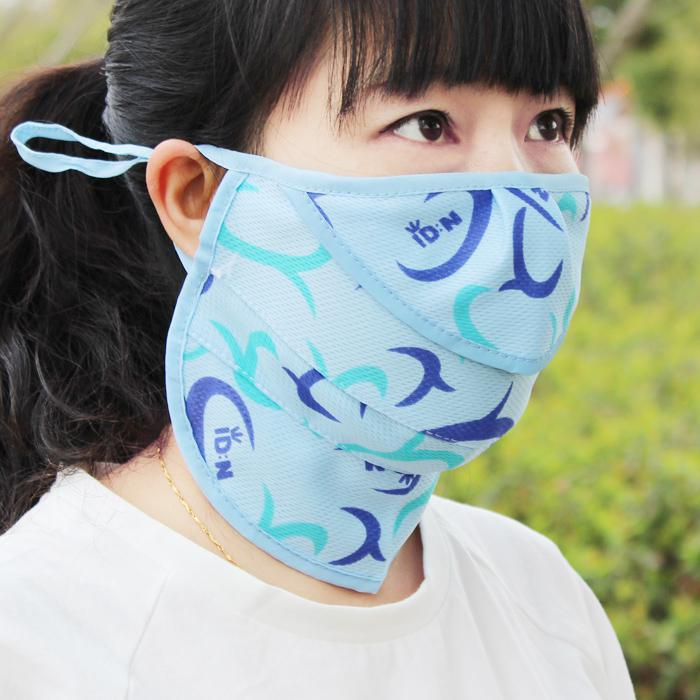OK: (247, 62, 596, 411)
